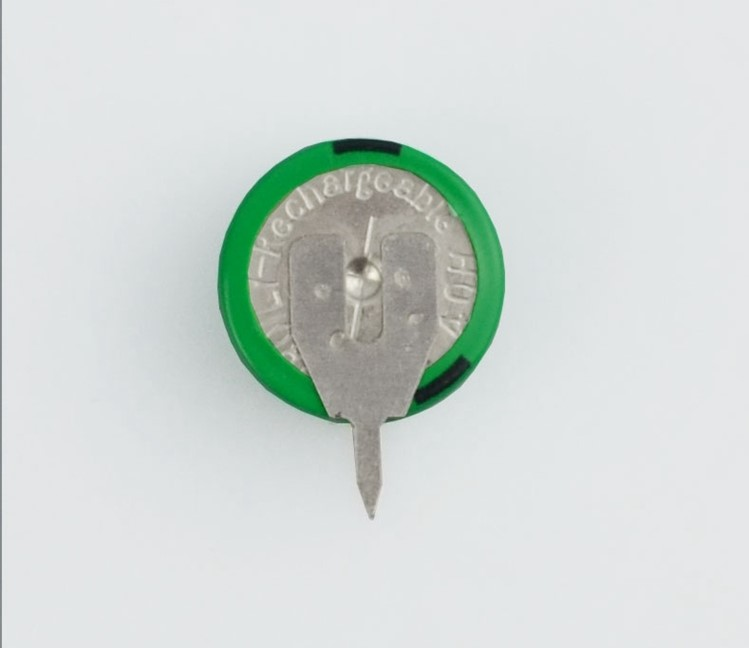Battery: (202, 121, 529, 536)
